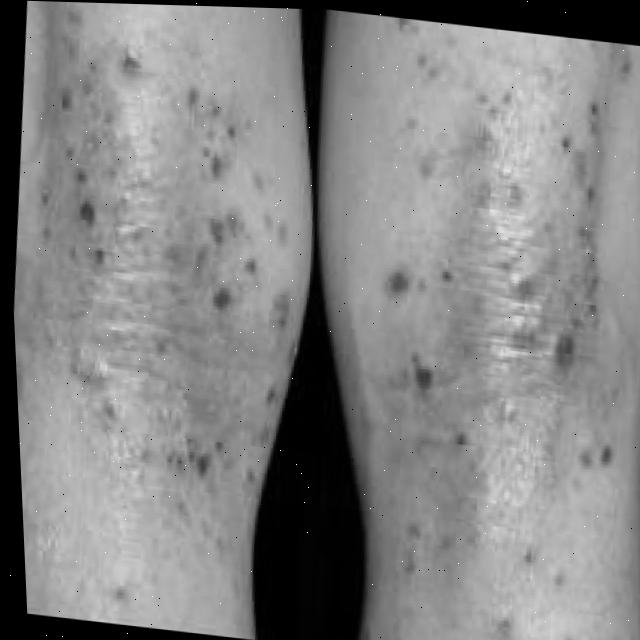Eczema: (332, 46, 637, 582), (30, 1, 313, 482)
